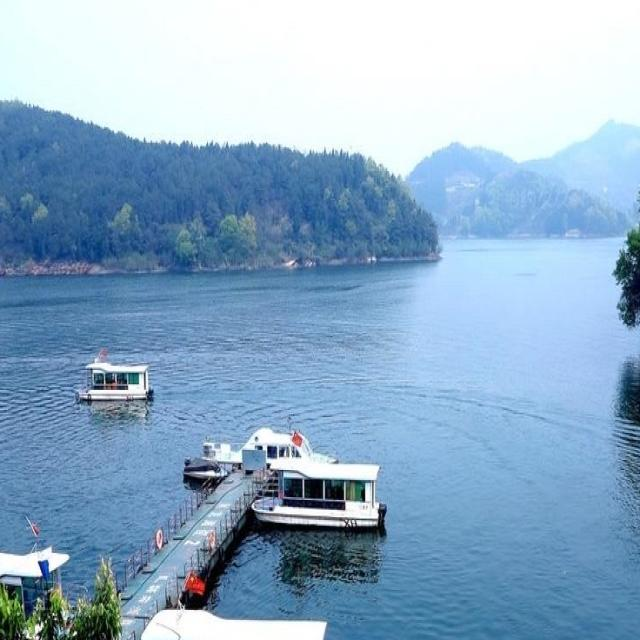houseboat: (266, 452, 384, 529), (70, 350, 148, 412)
